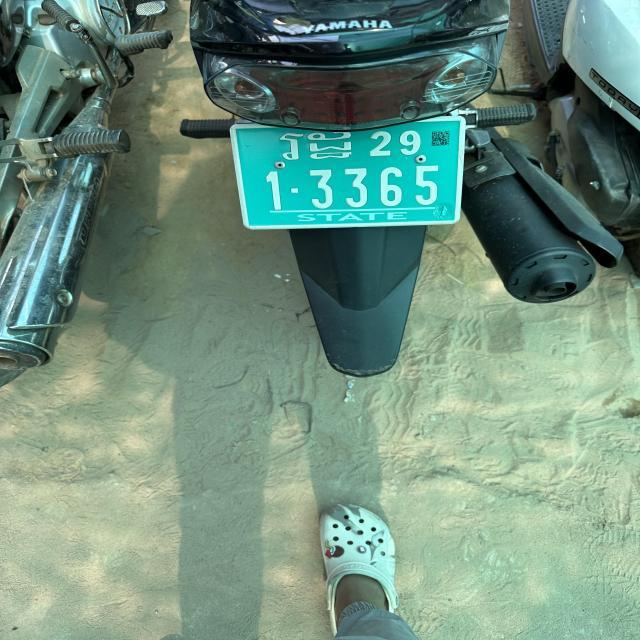State: (273, 128, 361, 164)
